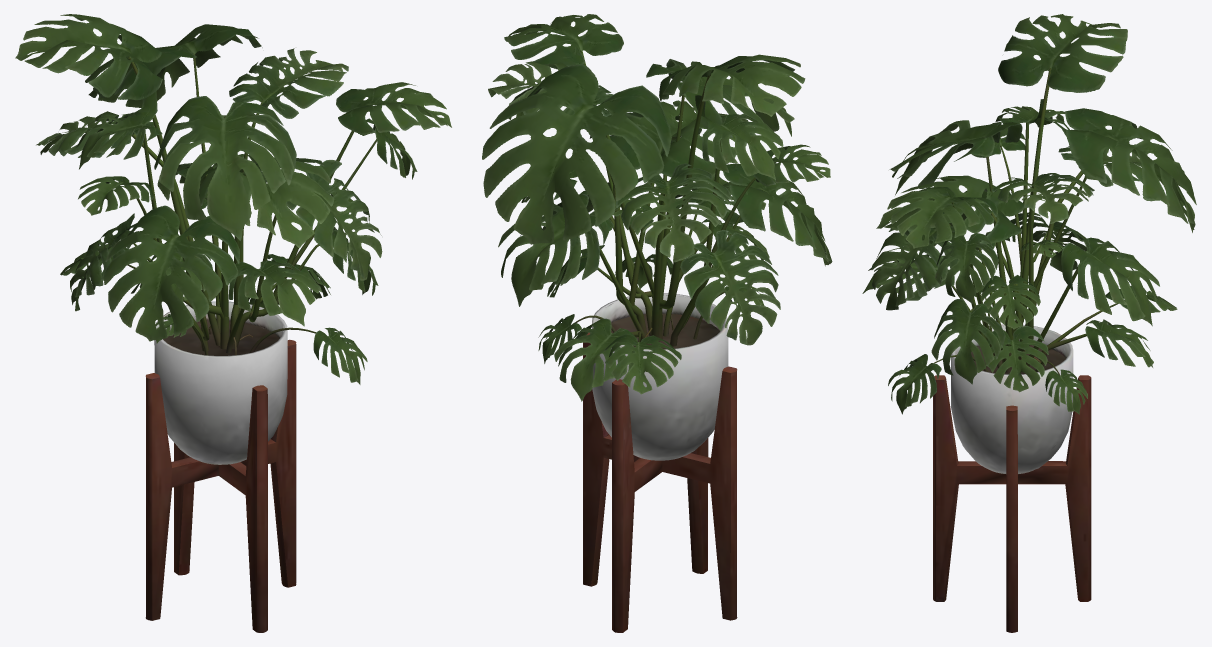
The model's file is monstera.glb.
The picture shows the model from 3 angles, left to right: view 1: azimuth 30°, elevation 25°; view 2: azimuth 150°, elevation 25°; view 3: azimuth 270°, elevation 25°; orthographic projection. The views are drawn at different scales.
Parts seen in each view (by area): view 1: Leaves_Mat.1_0, Stand_Mat_0, Pot_LP_Mat_0, root_HP_1_Mat.2_0; view 2: Leaves_Mat.1_0, Stand_Mat_0, Pot_LP_Mat_0, root_HP_1_Mat.2_0; view 3: Leaves_Mat.1_0, Stand_Mat_0, Pot_LP_Mat_0, root_HP_1_Mat.2_0.
Boxes of the visible parts, left/top/right/bottom form: Leaves_Mat.1_0: left=15, top=14, right=451, bottom=384; Stand_Mat_0: left=145, top=339, right=296, bottom=632; Pot_LP_Mat_0: left=154, top=301, right=287, bottom=464; root_HP_1_Mat.2_0: left=127, top=53, right=376, bottom=355; Leaves_Mat.1_0: left=482, top=14, right=832, bottom=401; Stand_Mat_0: left=583, top=332, right=737, bottom=632; Pot_LP_Mat_0: left=592, top=293, right=728, bottom=460; root_HP_1_Mat.2_0: left=575, top=50, right=755, bottom=346; Leaves_Mat.1_0: left=862, top=14, right=1196, bottom=414; Stand_Mat_0: left=933, top=375, right=1091, bottom=632; Pot_LP_Mat_0: left=951, top=324, right=1073, bottom=473; root_HP_1_Mat.2_0: left=933, top=68, right=1124, bottom=375.
Size of the model in its own units: 0.9585 by 1.5 by 0.8721.
Materials: 3 (3 with a texture image).
